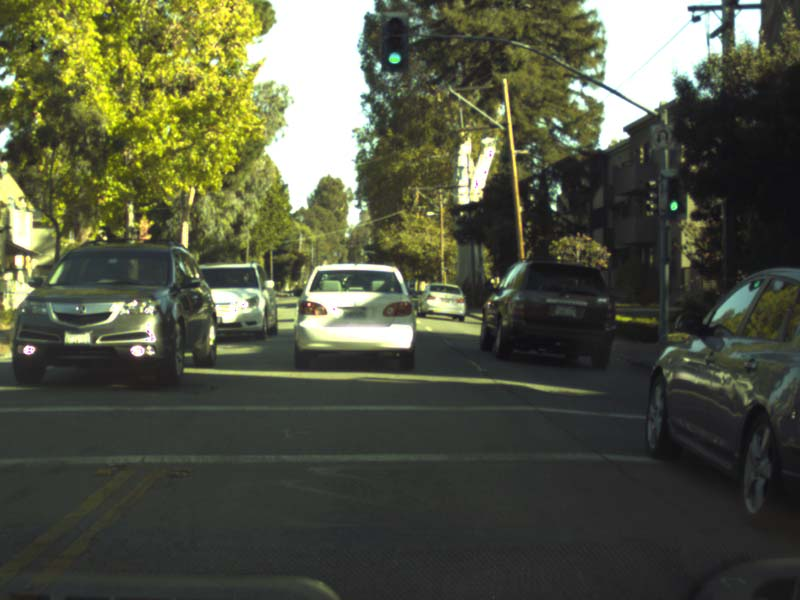Green: (378, 10, 410, 72), (666, 178, 684, 215)
